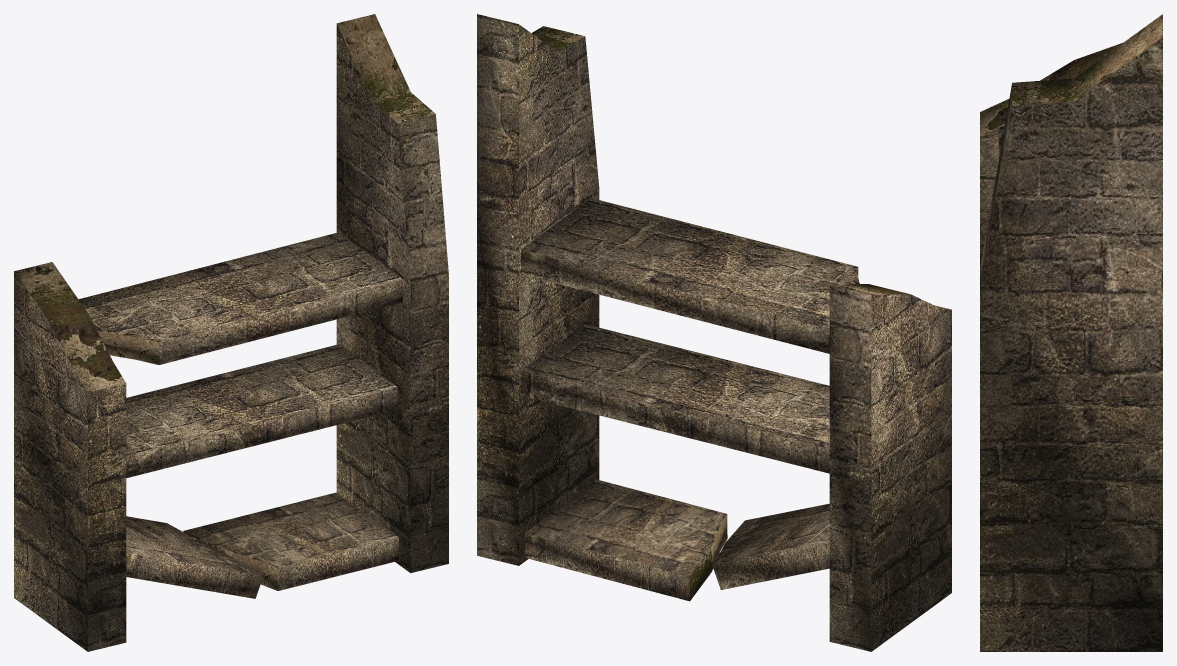
File: ADDON_DUNGEON_SHELF_01.glb
3 views of the same model, side by side, from view 1: azimuth 30°, elevation 25°; view 2: azimuth 150°, elevation 25°; view 3: azimuth 270°, elevation 25° (orthographic). The views are drawn at different scales.
Parts seen in each view (by area): view 1: Mesh; view 2: Mesh; view 3: Mesh.
Part boxes in pixels (left/top/right/bottom): Mesh: left=14, top=14, right=448, bottom=651; Mesh: left=477, top=14, right=951, bottom=651; Mesh: left=980, top=14, right=1162, bottom=651.
Size of the model in its own units: 1.79 by 2.34 by 0.6313.
2 materials, 2 textured.
